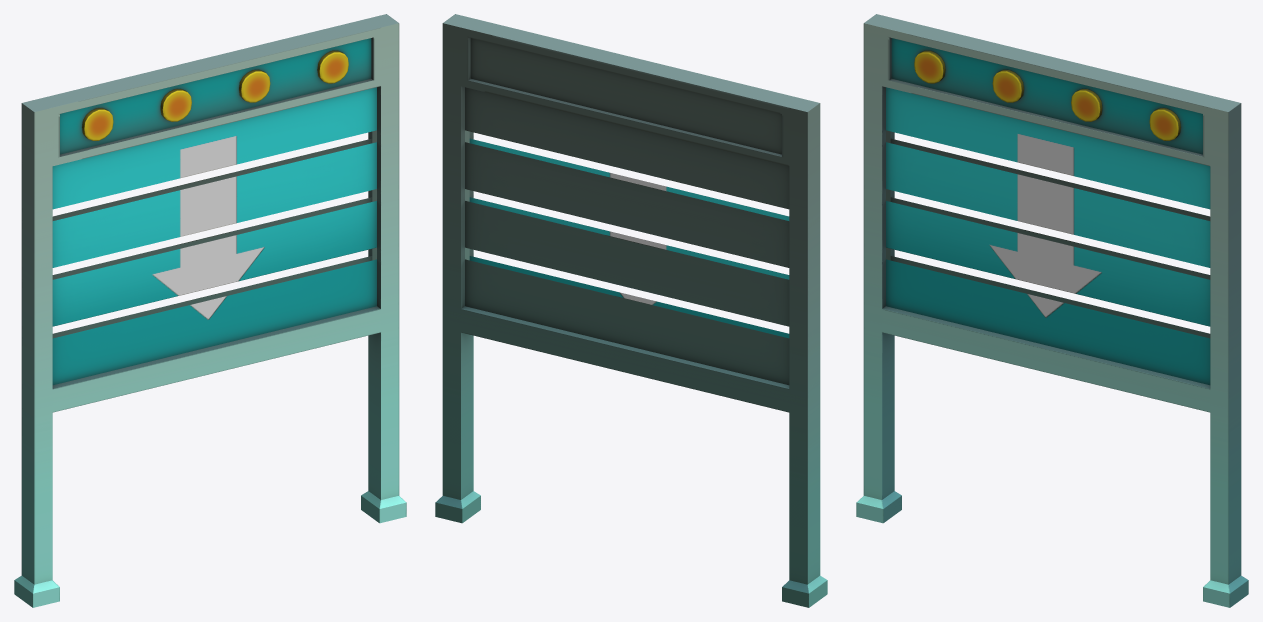
The model's file is Barrier_2 NewSize.fbx.
The picture shows the model from 3 angles, left to right: view 1: azimuth 30°, elevation 25°; view 2: azimuth 150°, elevation 25°; view 3: azimuth 330°, elevation 25°; orthographic projection.
Parts seen in each view (by area): view 1: Barrier_2; view 2: Barrier_2; view 3: Barrier_2.
Part boxes in pixels (<box>): Barrier_2: <box>14,14,406,607</box>; Barrier_2: <box>435,14,827,607</box>; Barrier_2: <box>856,14,1248,607</box>.
Bounding box in the file's own units: 0.8087 × 1.02 × 0.0696.
